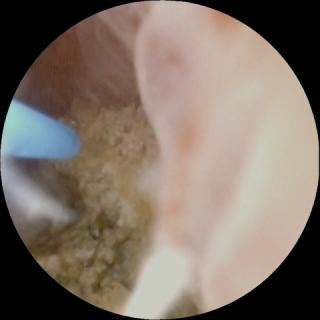fiber: (2, 102, 77, 157)
stone: (35, 99, 154, 308)
tissue: (25, 5, 313, 314)
